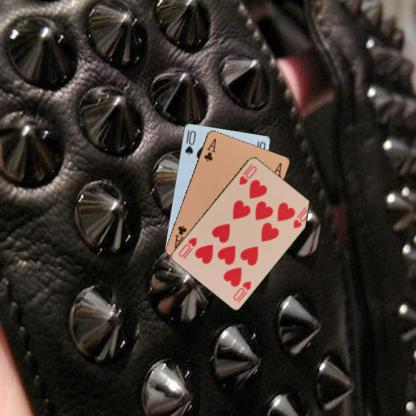10h: (230, 278, 252, 302), (236, 163, 258, 186)
10s: (182, 128, 197, 156)
Ac: (201, 136, 217, 162)
